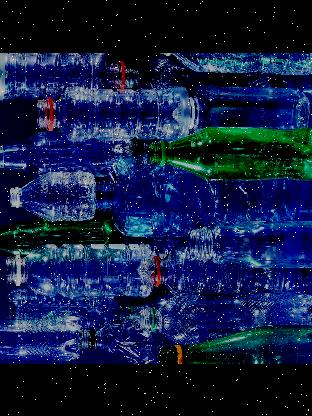Plastic Bottle: (34, 86, 191, 143), (150, 126, 312, 181), (4, 243, 152, 297), (160, 322, 312, 363)
